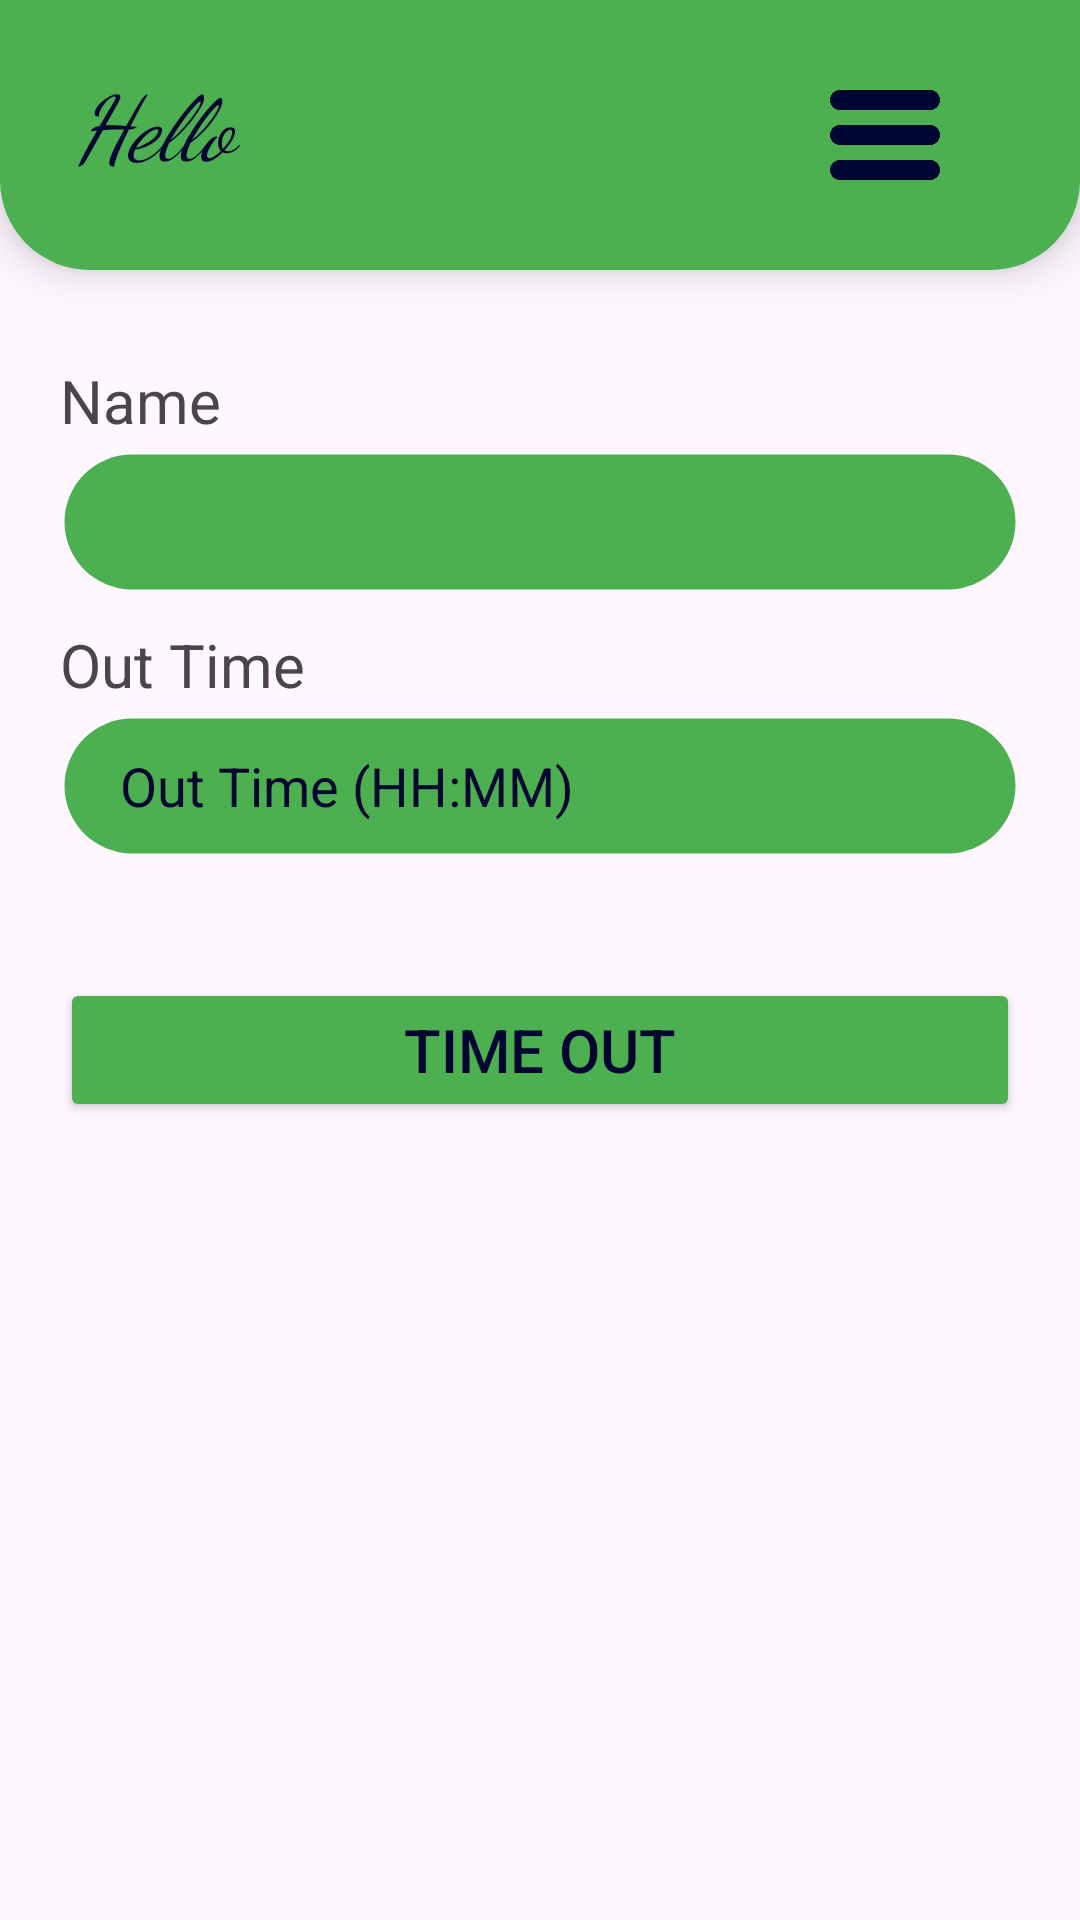

Where to tap for icons on this 1080px x 1920px app screen, as point (x, y):
menus: point (885, 135)
